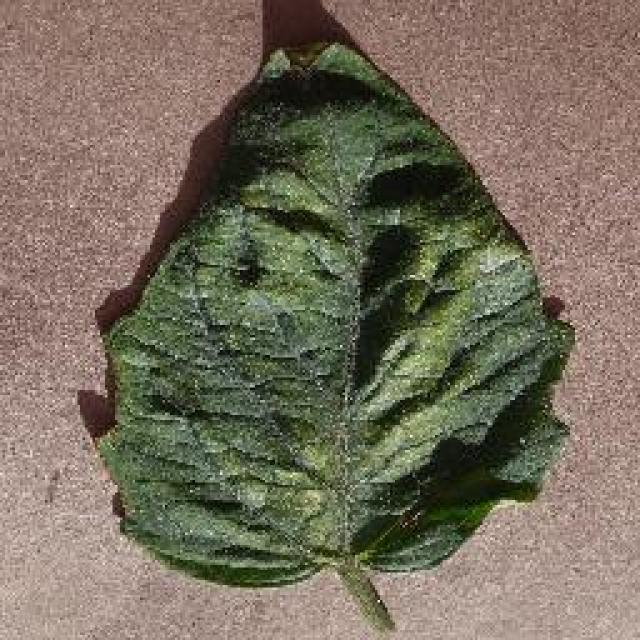Tomato___Spider_mites Two-spotted_spider_mite: (100, 32, 572, 622)
